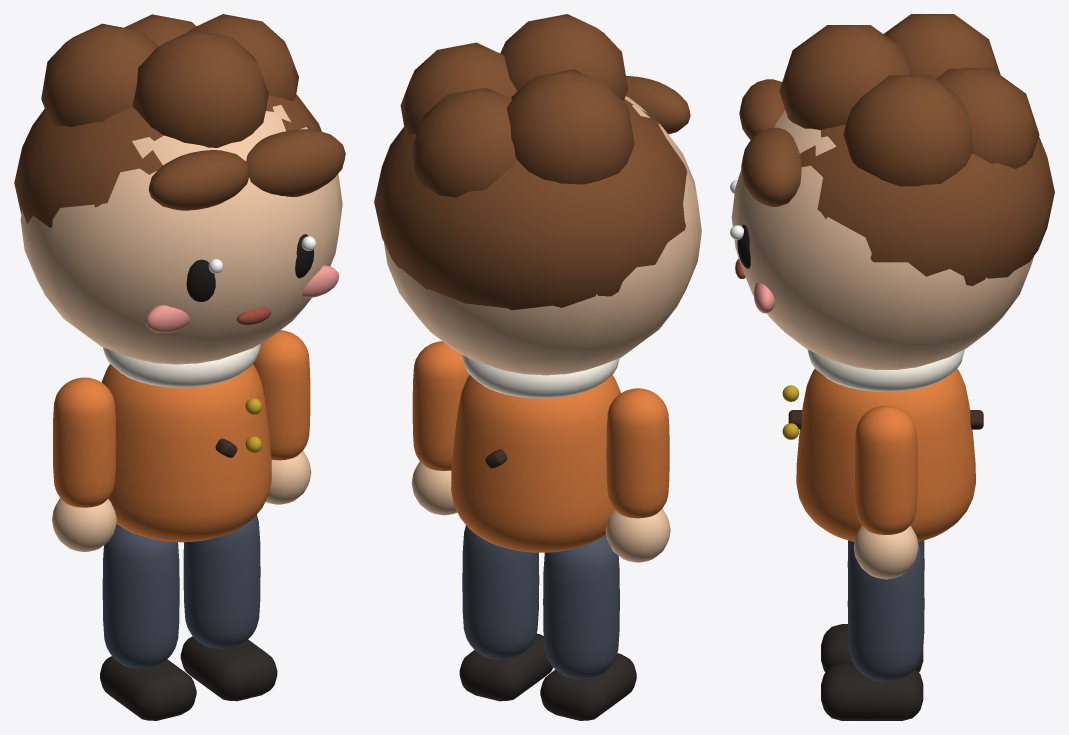
The model's file is char_runner.glb.
3 views of the same model, side by side, from view 1: azimuth 30°, elevation 25°; view 2: azimuth 150°, elevation 25°; view 3: azimuth 270°, elevation 25° (orthographic).
Visible parts, largest first — view 1: head, body, legR, legL, armR, armL; view 2: head, body, legR, legL, armR, armL; view 3: head, body, legL, armL, legR.
Part boxes in pixels (x1=…): head: x1=14, y1=14, x2=345, y2=364; body: x1=101, y1=344, x2=271, y2=542; legR: x1=100, y1=524, x2=196, y2=720; legL: x1=180, y1=515, x2=277, y2=701; armR: x1=52, y1=377, x2=117, y2=551; armL: x1=253, y1=330, x2=311, y2=504; head: x1=374, y1=14, x2=701, y2=375; body: x1=451, y1=355, x2=620, y2=552; legR: x1=540, y1=534, x2=636, y2=720; legL: x1=459, y1=525, x2=553, y2=701; armR: x1=605, y1=388, x2=670, y2=562; armL: x1=411, y1=341, x2=469, y2=515; head: x1=730, y1=14, x2=1054, y2=369; body: x1=782, y1=349, x2=983, y2=541; legL: x1=821, y1=543, x2=924, y2=720; armL: x1=853, y1=405, x2=918, y2=579; legR: x1=821, y1=540, x2=924, y2=671.
Bounding box in the file's own units: 0.6929 × 1.58 × 0.6992.
